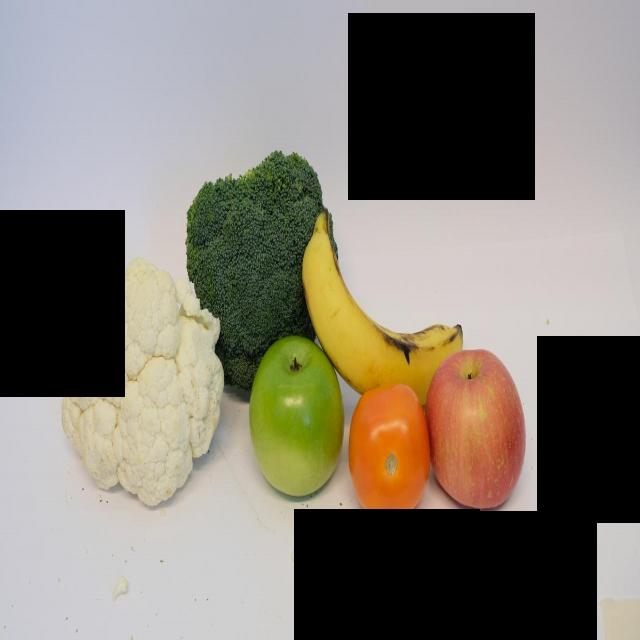apple: (432, 334, 533, 532), (247, 345, 344, 498)
banana: (305, 211, 465, 392)
broccoli: (187, 158, 338, 386)
cauliflower: (60, 257, 224, 502)
tomato: (345, 374, 432, 542)
